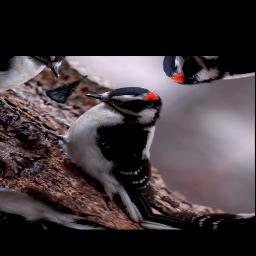Woodpecker: (9, 67, 247, 224)
